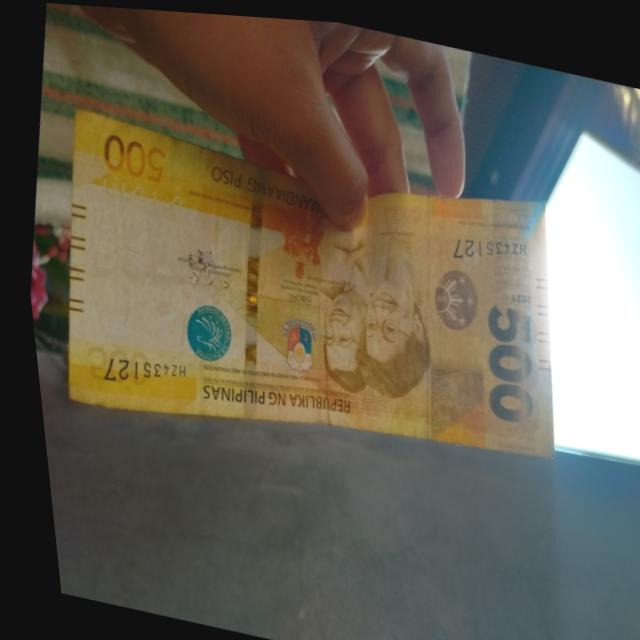concealed_value: (413, 349, 492, 449)
optically_variable_device: (411, 241, 492, 343)
security_thread: (208, 152, 290, 422)
see_through_mark: (81, 155, 197, 234)
watermark: (74, 188, 204, 358)
